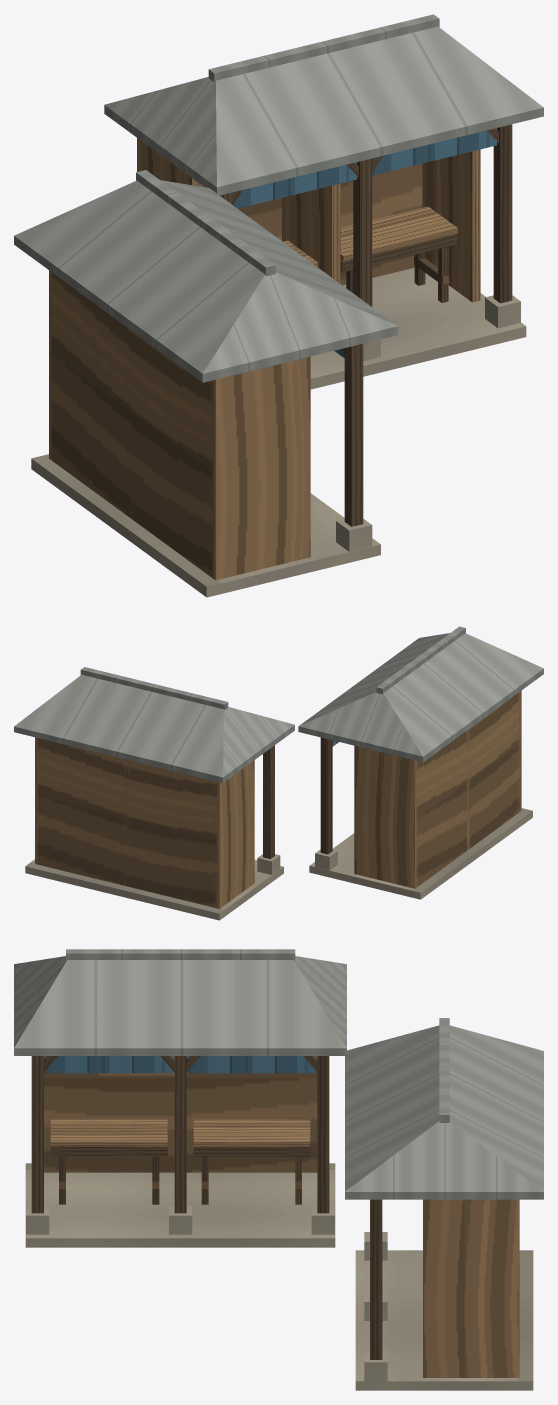
File: enugu.glb
3 renders of one model, top to bottom at view 1: azimuth 30°, elevation 25°; view 2: azimuth 150°, elevation 25°; view 3: azimuth 270°, elevation 25°, orthographic. The views are drawn at different scales.
Parts seen in each view (by area): view 1: enugu; view 2: enugu; view 3: enugu.
Part boxes in pixels (left/top/right/bottom): enugu: left=14, top=14, right=543, bottom=597; enugu: left=14, top=626, right=543, bottom=920; enugu: left=14, top=949, right=543, bottom=1390.
Size of the model in its own units: 4.72 by 2.5 by 4.64.
1 material, 1 textured.
